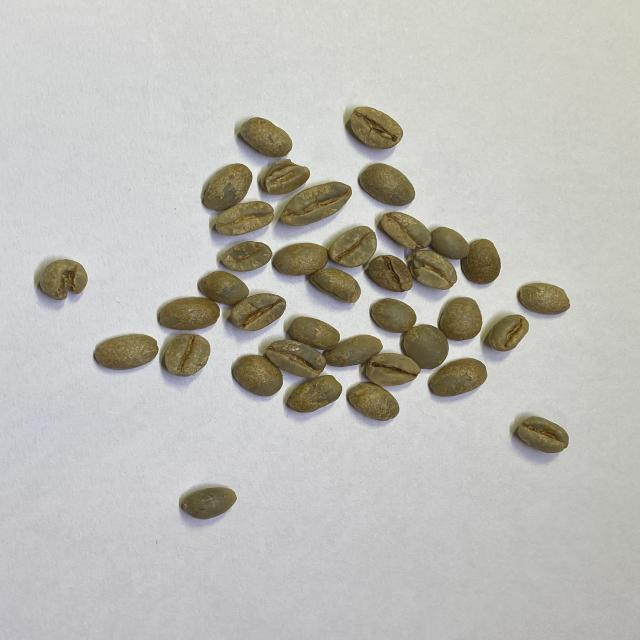bad: (280, 181, 354, 224), (37, 256, 89, 302), (408, 248, 459, 292), (259, 158, 308, 194), (218, 240, 272, 271)
good: (356, 162, 417, 207), (347, 104, 405, 151), (264, 338, 329, 378), (200, 162, 252, 210), (426, 358, 489, 397), (92, 333, 159, 369), (230, 354, 284, 398), (229, 292, 287, 331), (240, 116, 293, 158), (211, 202, 274, 237), (284, 375, 342, 413), (514, 414, 569, 454), (401, 324, 449, 369), (161, 333, 211, 376), (364, 351, 422, 388), (459, 236, 503, 284), (378, 211, 432, 250), (348, 382, 400, 422), (158, 296, 218, 330), (308, 266, 361, 304), (327, 227, 378, 266), (441, 296, 484, 342), (273, 242, 329, 276), (181, 486, 237, 520), (198, 269, 250, 305), (518, 281, 570, 316), (290, 315, 340, 351), (368, 254, 414, 293), (326, 334, 382, 363), (370, 298, 416, 332), (487, 314, 529, 349), (431, 224, 470, 259)
